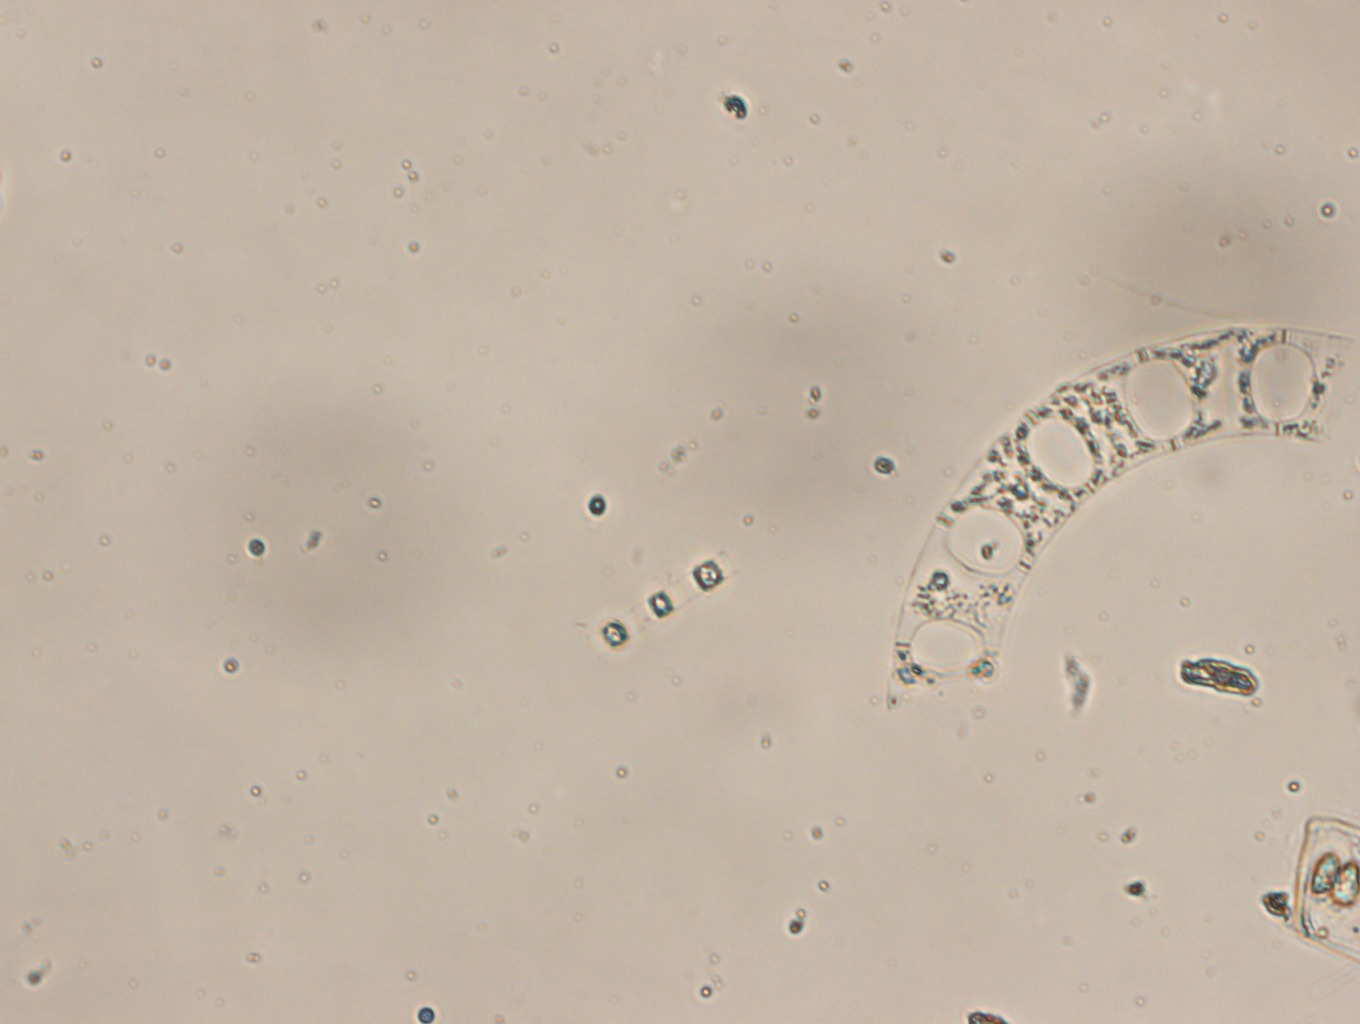eucampia: (883, 322, 1349, 716)
skeletonema: (593, 553, 744, 655)
